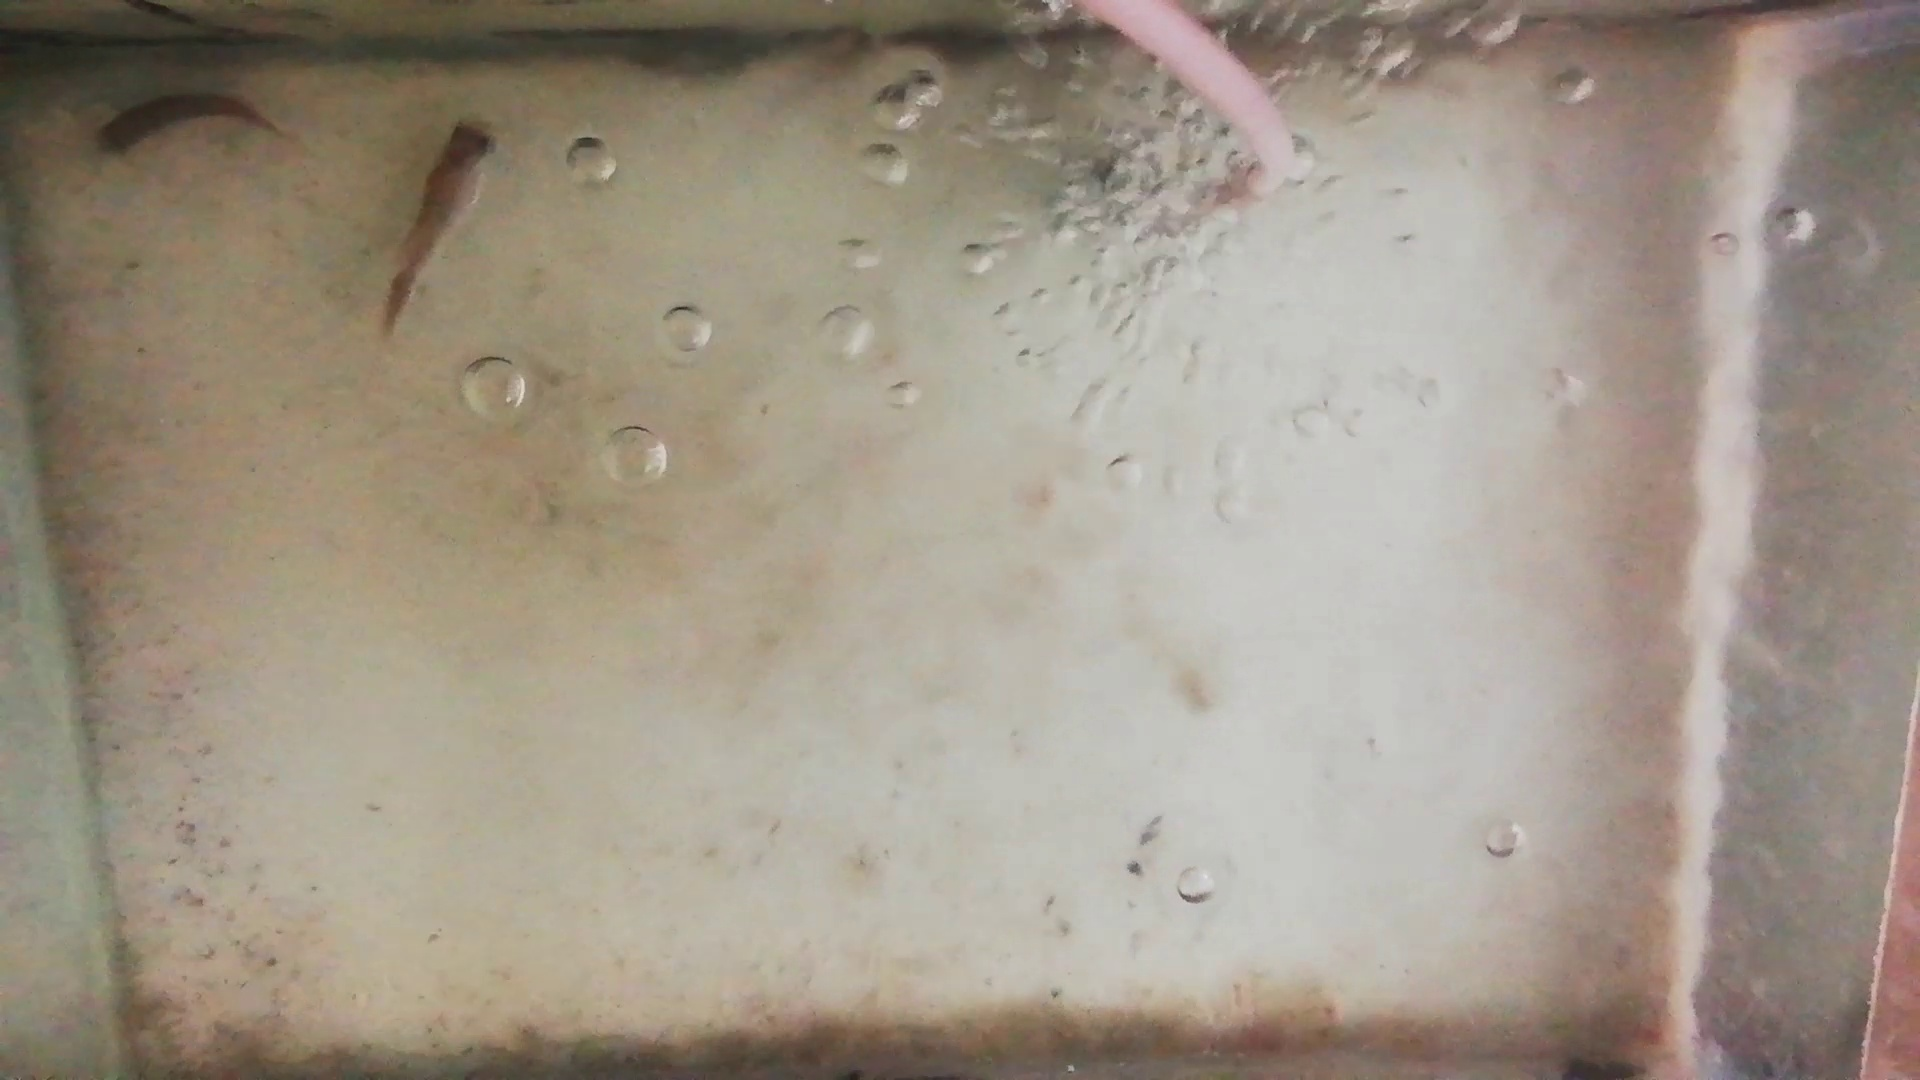fish: (382, 117, 498, 338), (92, 95, 285, 160)
